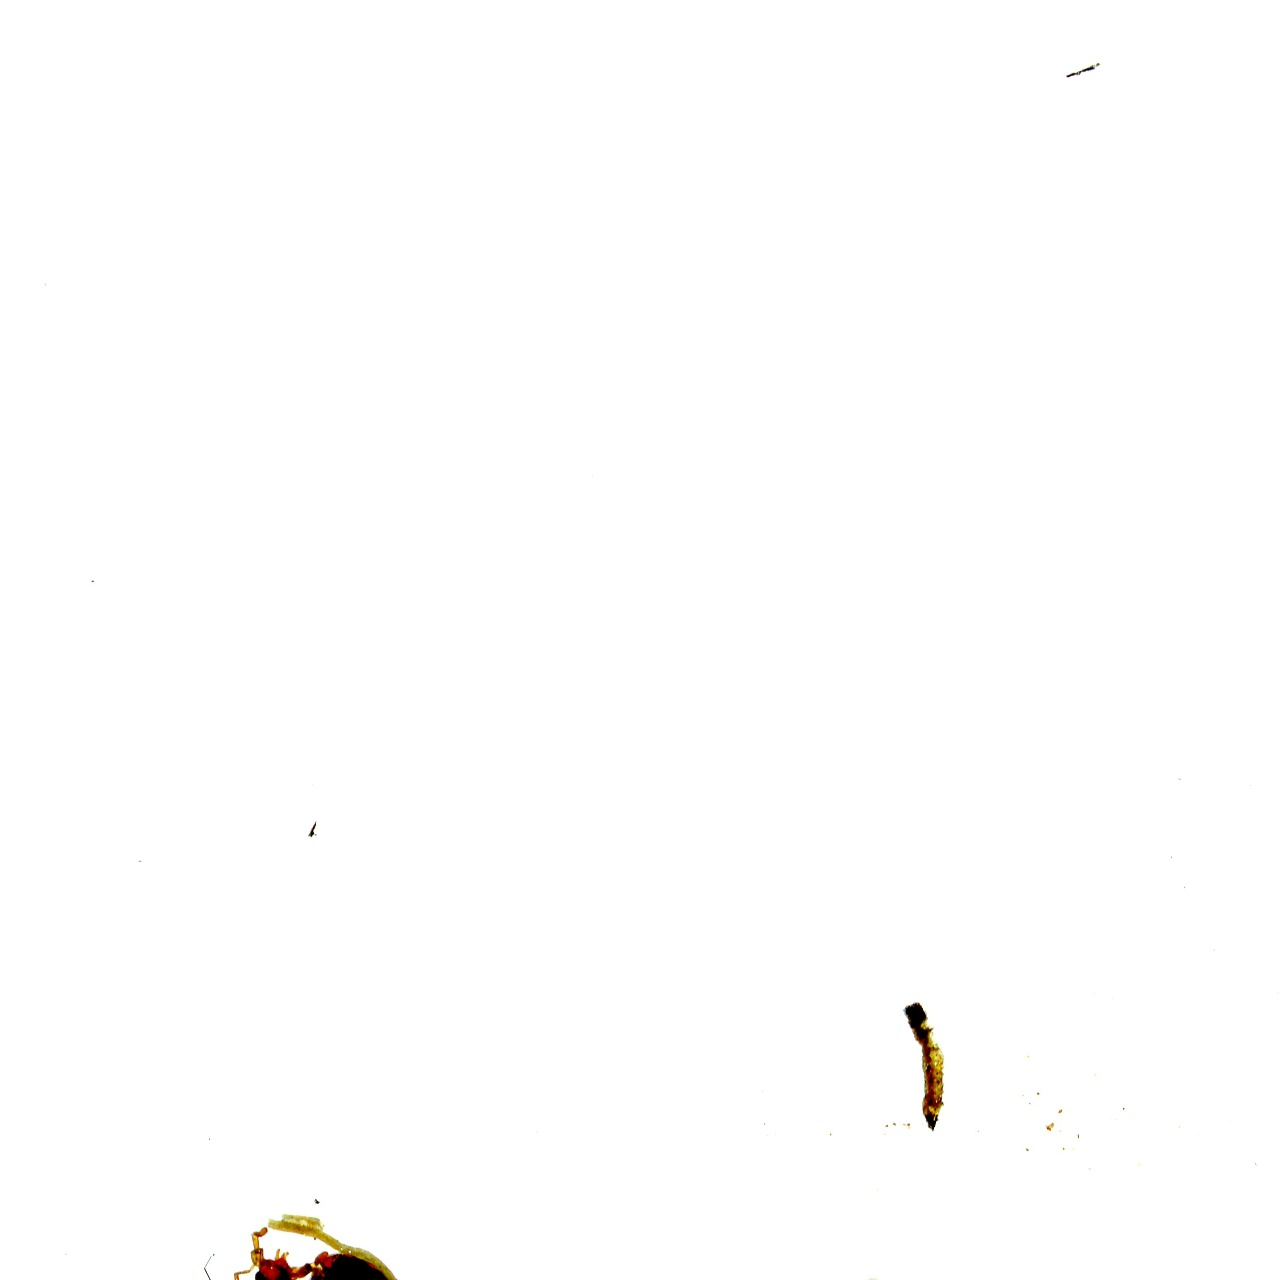arthropod: (269, 1191, 496, 1280), (219, 1226, 327, 1280)
